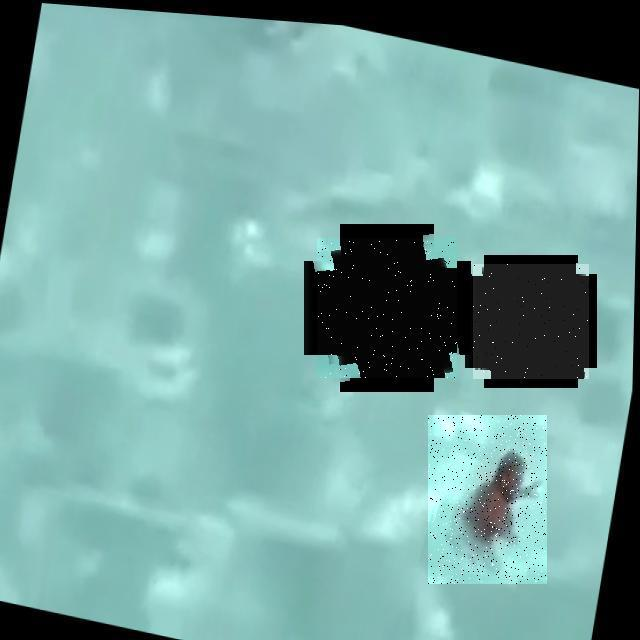swimming: (428, 415, 547, 584), (317, 238, 457, 378), (473, 264, 589, 379)
